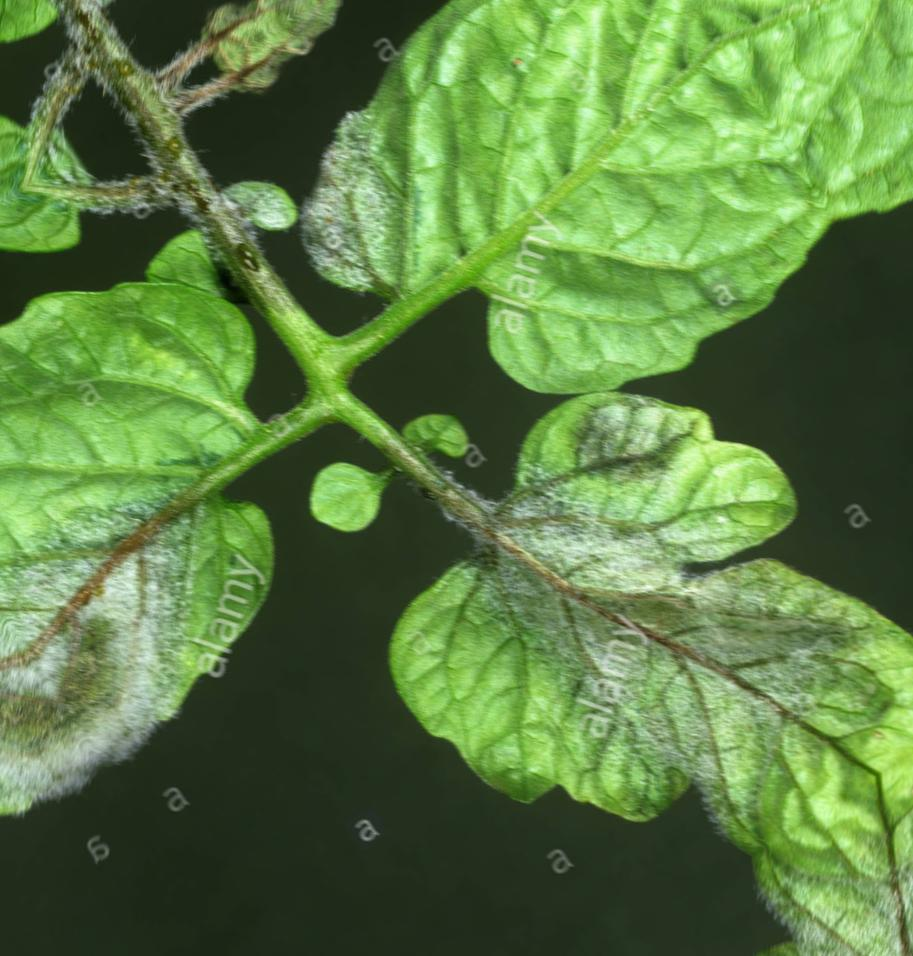Tomato leaf late blight: (317, 308, 913, 956), (208, 0, 867, 530), (0, 169, 454, 791)
